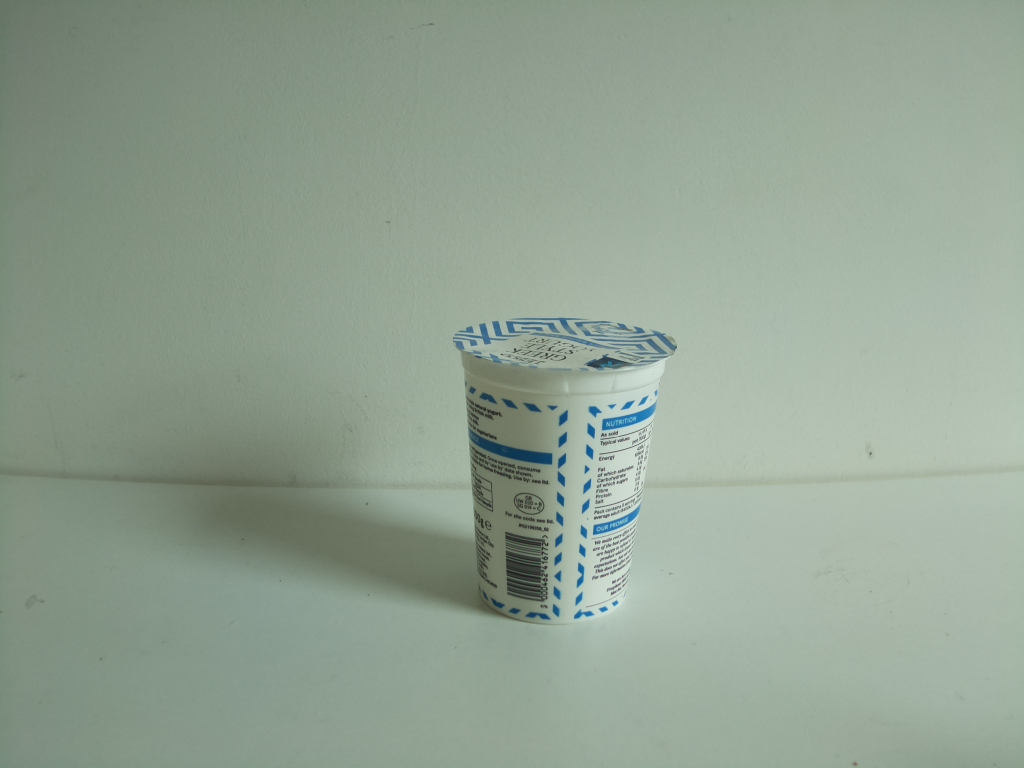yogurt: (447, 312, 675, 626)
